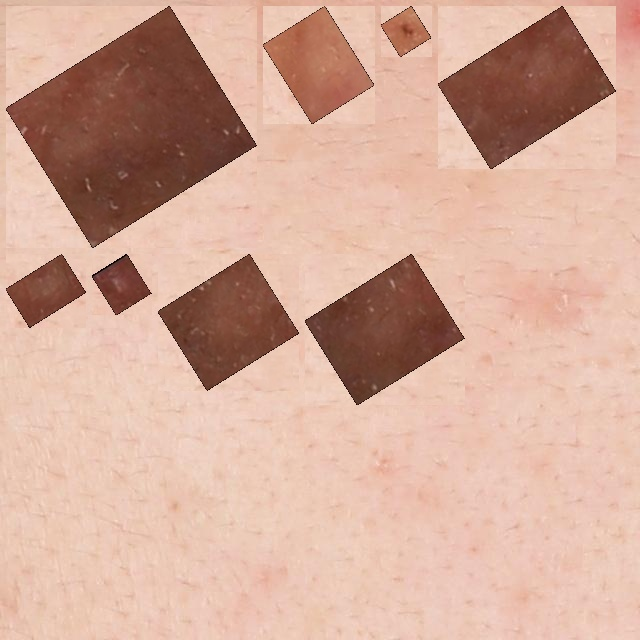hypertrophic_scar: (17, 17, 246, 236), (449, 17, 605, 158), (316, 265, 453, 394), (169, 265, 288, 379), (274, 17, 363, 113), (17, 265, 75, 316)
nevus: (392, 17, 420, 45)
pustule: (103, 265, 140, 304)
